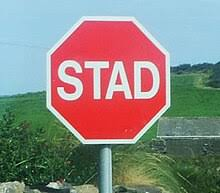stop sign: (46, 16, 170, 146)
